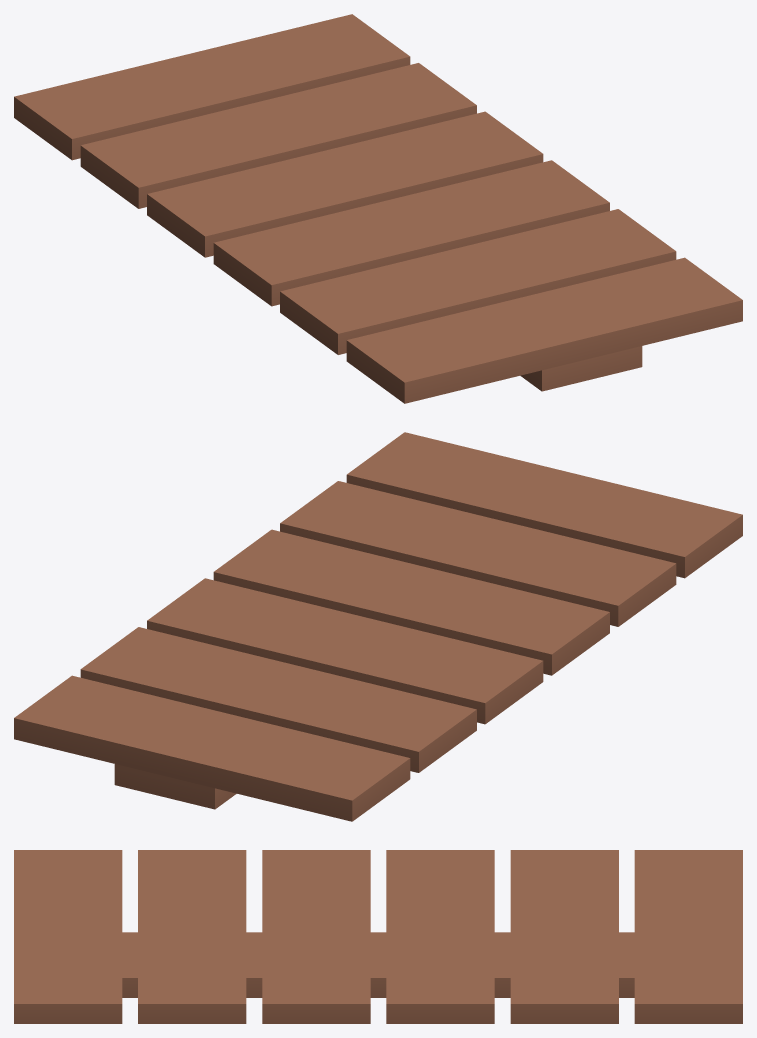
The model's file is planks-half.glb.
3 views of the same model, one above another, from view 1: azimuth 30°, elevation 25°; view 2: azimuth 150°, elevation 25°; view 3: azimuth 270°, elevation 25° (orthographic). The views are drawn at different scales.
Visible parts, largest first — view 1: planks-half; view 2: planks-half; view 3: planks-half.
Part boxes in pixels (x1,y1,x2,y2): planks-half: (14, 14, 742, 403); planks-half: (14, 432, 742, 821); planks-half: (14, 850, 742, 1023).
Bounding box in the file's own units: 1.5 × 0.1798 × 3.
